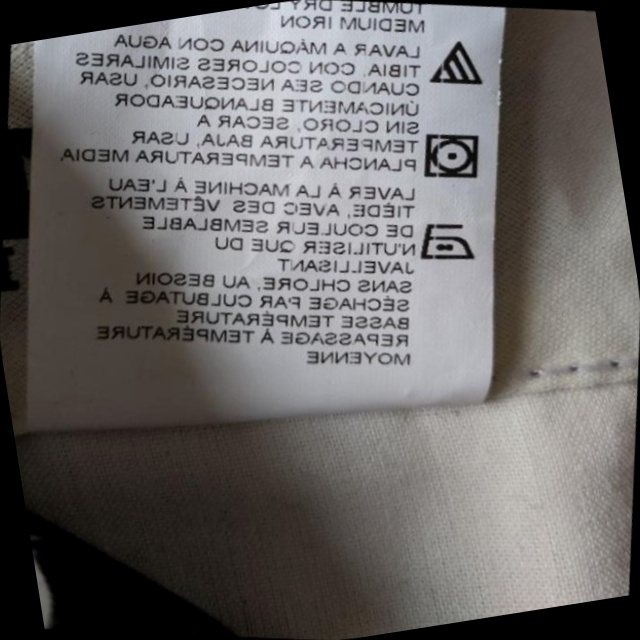iron_medium: (410, 209, 480, 271)
non_chlorine_bleach: (417, 26, 494, 103)
tumble_dry_low: (413, 119, 493, 191)
